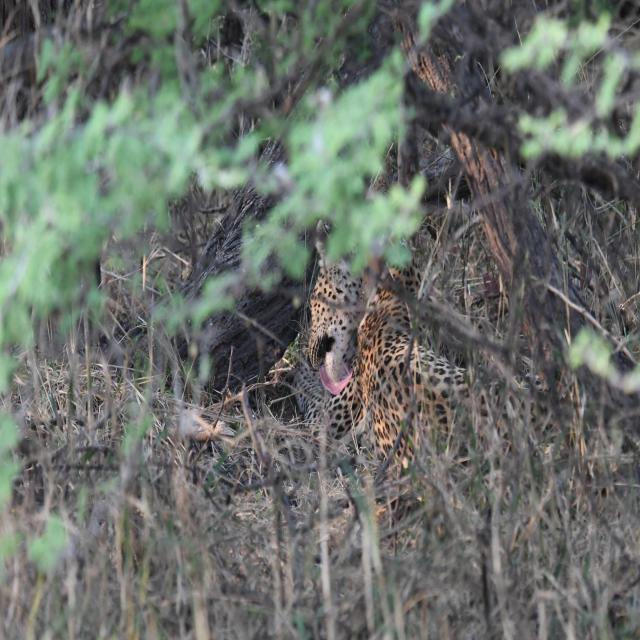Leopard: (291, 220, 562, 454)
